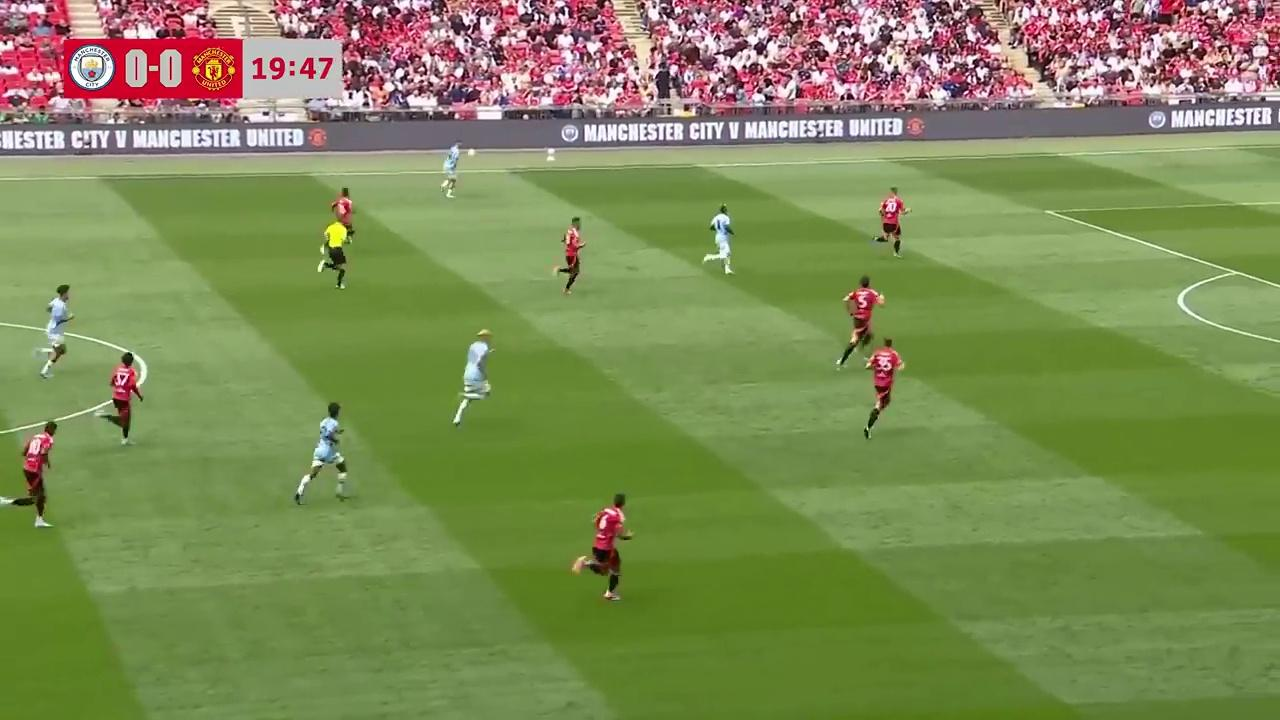player: (570, 494, 631, 602), (293, 402, 349, 504), (836, 275, 884, 368), (17, 422, 56, 528), (863, 336, 903, 439), (452, 329, 493, 428), (38, 285, 73, 378), (109, 352, 143, 444), (875, 187, 909, 257), (703, 204, 735, 275), (559, 217, 585, 294), (331, 187, 354, 244), (440, 142, 461, 198)
referee: (318, 219, 348, 289)
